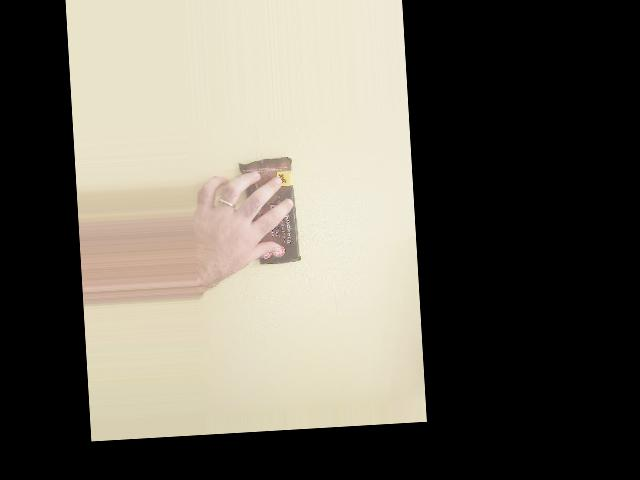chocolate: (239, 154, 302, 269)
